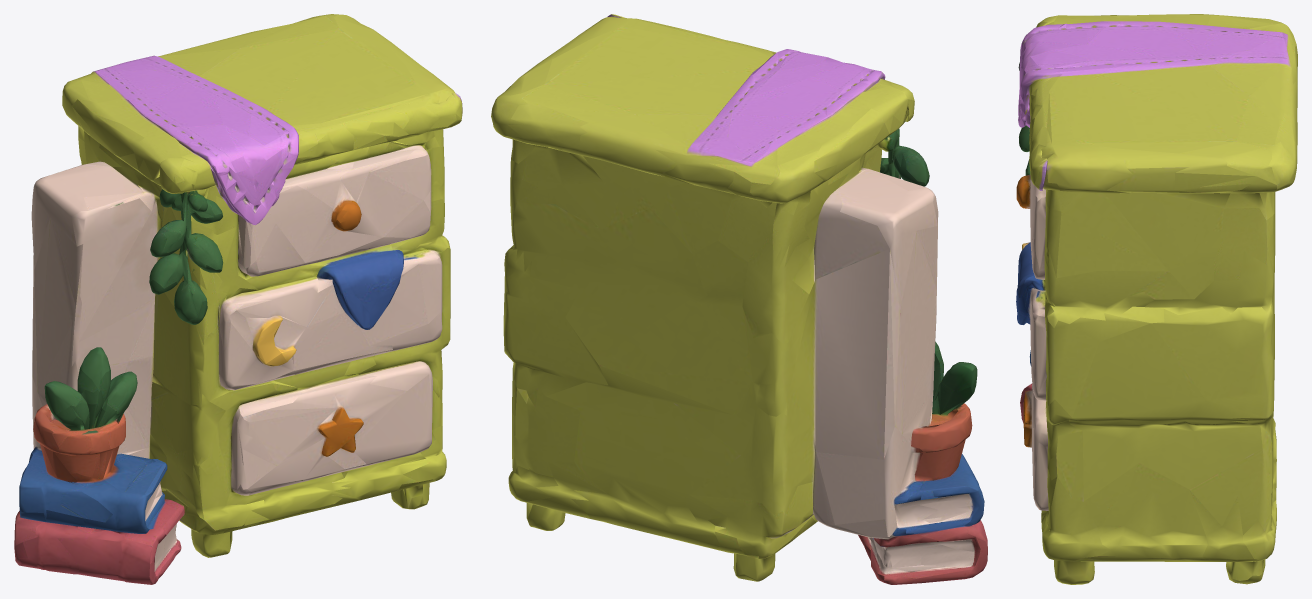
The model's file is dream-dresser.glb.
3 renders of one model, left to right at view 1: azimuth 30°, elevation 25°; view 2: azimuth 150°, elevation 25°; view 3: azimuth 270°, elevation 25°, orthographic. The views are drawn at different scales.
Visible parts, largest first — view 1: dream-dresser; view 2: dream-dresser; view 3: dream-dresser.
Boxes of the visible parts, left/top/right/bottom form: dream-dresser: left=14, top=14, right=462, bottom=584; dream-dresser: left=491, top=14, right=987, bottom=584; dream-dresser: left=1016, top=14, right=1297, bottom=584.
Bounding box in the file's own units: 1.9 × 1.87 × 1.08.
Materials: 1 (1 with a texture image).
